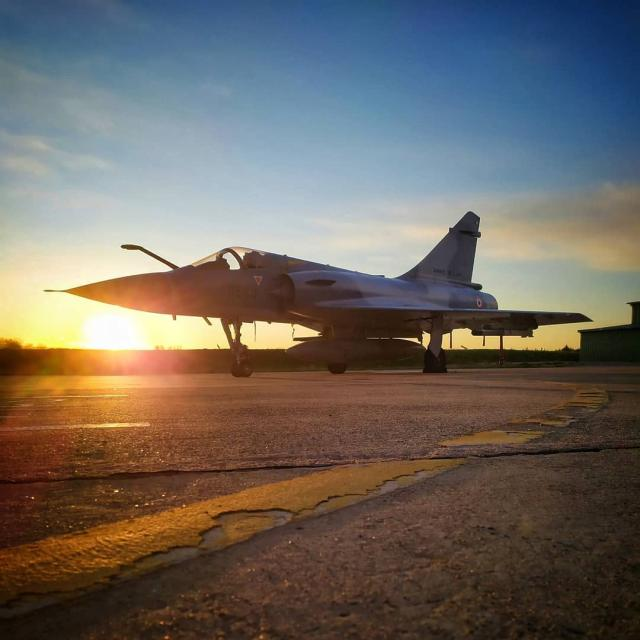MIL_Plane: (43, 210, 593, 378)
